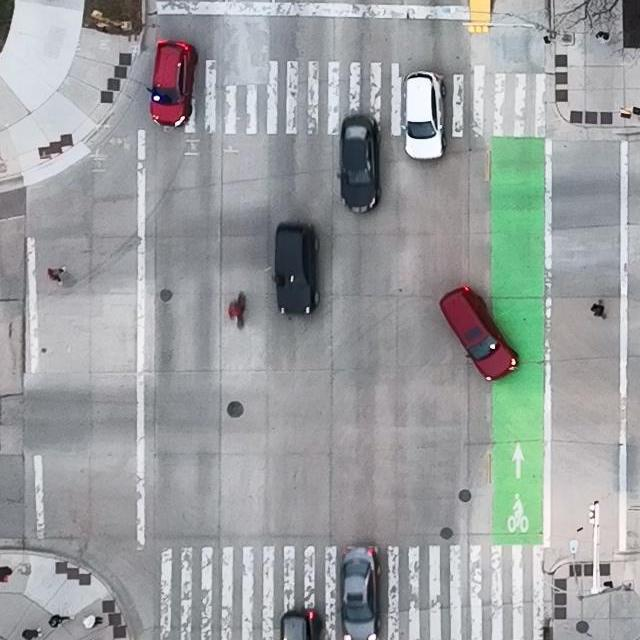car: (438, 285, 520, 382), (273, 222, 321, 316), (336, 115, 382, 213), (147, 40, 197, 127), (401, 69, 447, 160), (340, 545, 383, 640), (278, 611, 322, 640)
